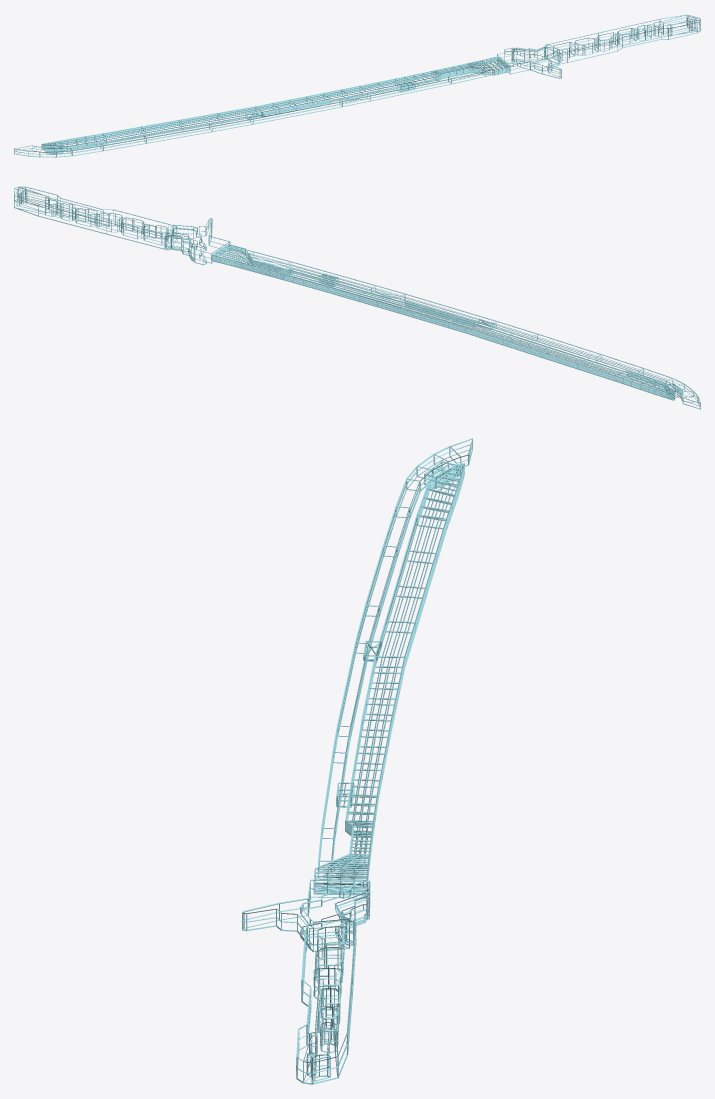
File: 카타나3.fbx
3 renders of one model, top to bottom at view 1: azimuth 30°, elevation 25°; view 2: azimuth 150°, elevation 25°; view 3: azimuth 270°, elevation 25°, orthographic. The views are drawn at different scales.
Parts seen in each view (by area): view 1: 카타나3; view 2: 카타나3; view 3: 카타나3.
Boxes of the visible parts, x1=… form: 카타나3: x1=14, y1=14, x2=700, y2=157; 카타나3: x1=14, y1=186, x2=700, y2=409; 카타나3: x1=241, y1=438, x2=473, y2=1084.
Bounding box in the file's own units: 4672 × 105 × 725.
